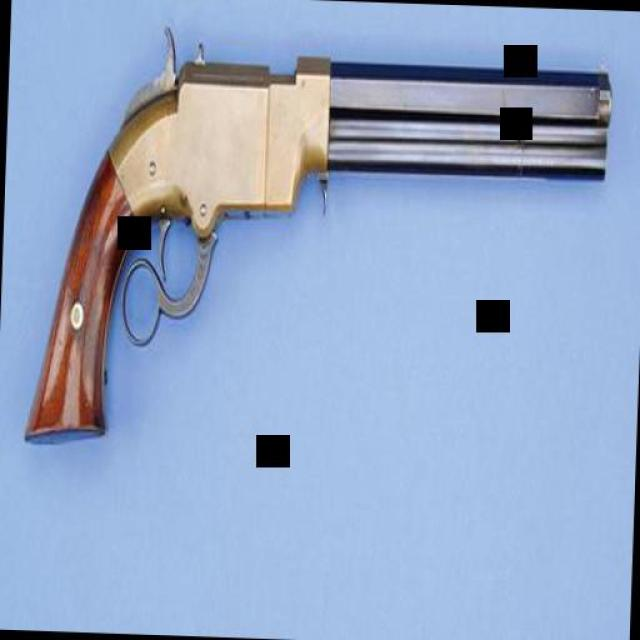gun: (21, 10, 612, 466)
